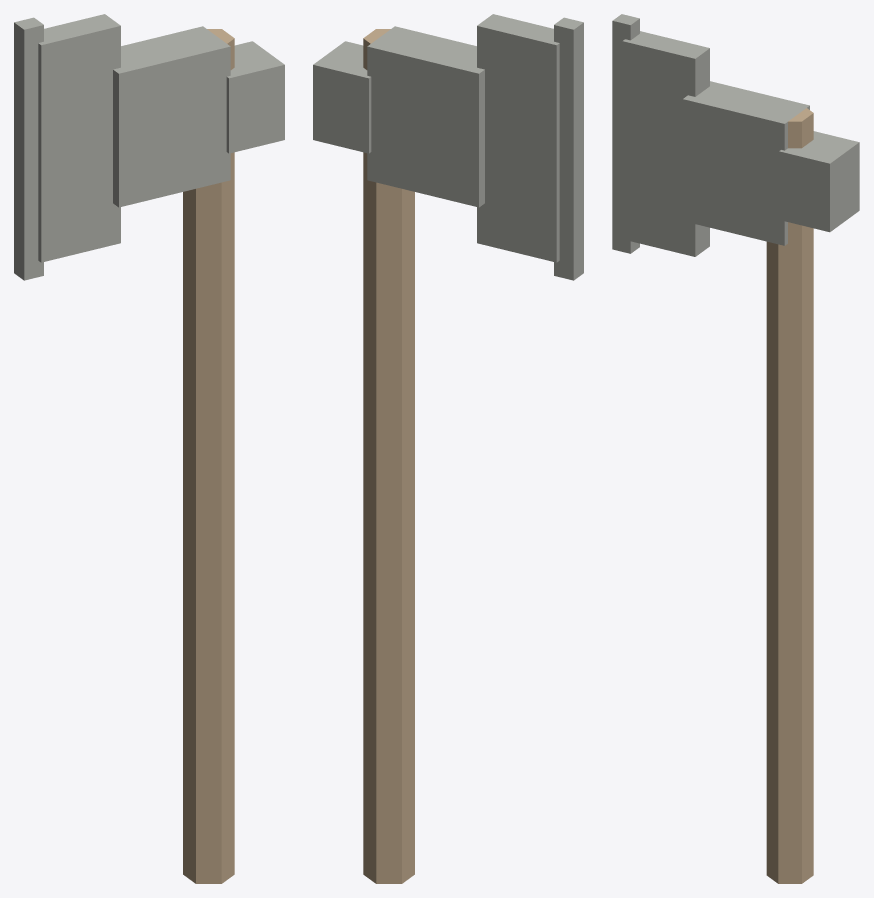
The model's file is axe.glb.
The picture shows the model from 3 angles, left to right: view 1: azimuth 30°, elevation 25°; view 2: azimuth 150°, elevation 25°; view 3: azimuth 330°, elevation 25°; orthographic projection. The views are drawn at different scales.
Parts seen in each view (by area): view 1: axe_iron, axe_wood; view 2: axe_iron, axe_wood; view 3: axe_iron, axe_wood.
Part boxes in pixels (box(x1,y1,x2,y2)): axe_iron: box(14, 14, 284, 280); axe_wood: box(183, 29, 234, 883); axe_iron: box(313, 14, 583, 280); axe_wood: box(363, 29, 414, 883); axe_iron: box(612, 14, 859, 256); axe_wood: box(766, 108, 813, 883).
Size of the model in its own units: 0.1042 by 0.3567 by 0.0233.
